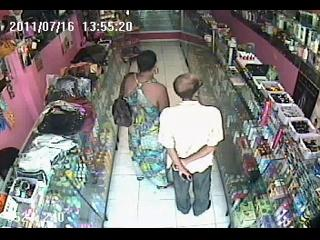Normal: (157, 72, 225, 216), (118, 50, 173, 190)
